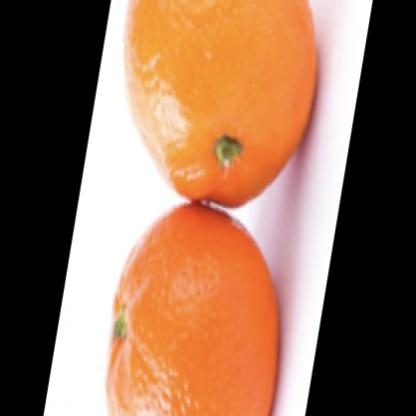orange: (118, 1, 320, 209), (97, 201, 291, 414)
